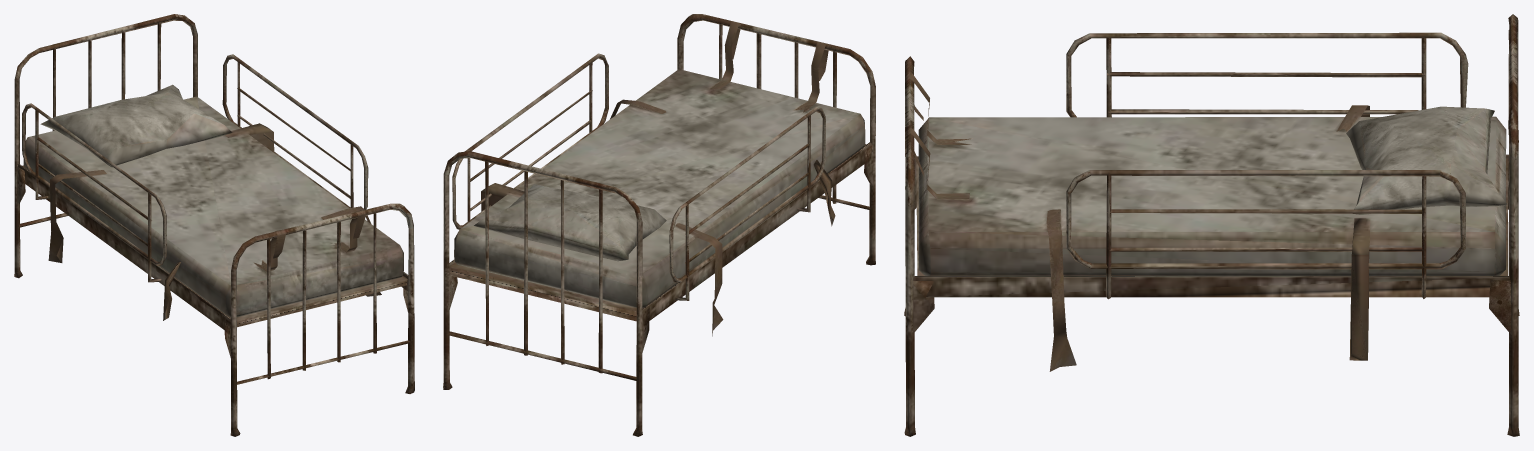
Rendered from bed.glb.
The picture shows the model from 3 angles, left to right: view 1: azimuth 30°, elevation 25°; view 2: azimuth 150°, elevation 25°; view 3: azimuth 270°, elevation 25°; orthographic projection. The views are drawn at different scales.
Bounding box in the file's own units: 0.5738 × 0.5615 × 0.9987.
Materials: 1 (1 with a texture image).
